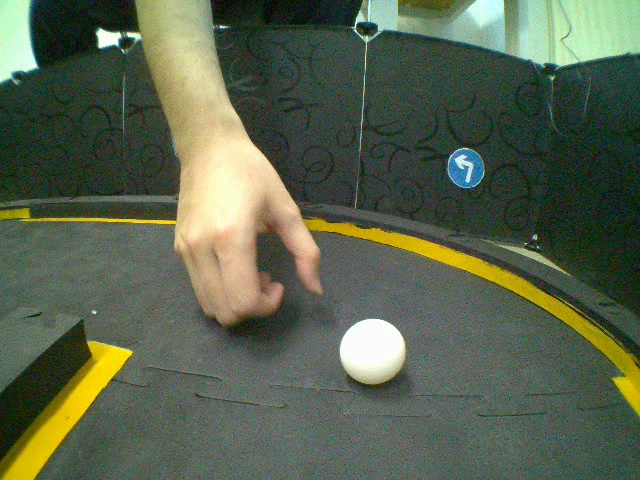ball: (338, 317, 408, 388)
